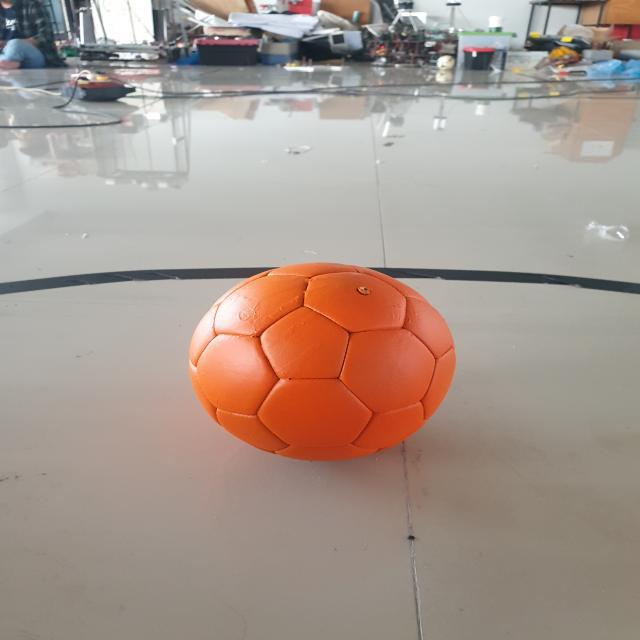bola: (175, 253, 470, 474)
